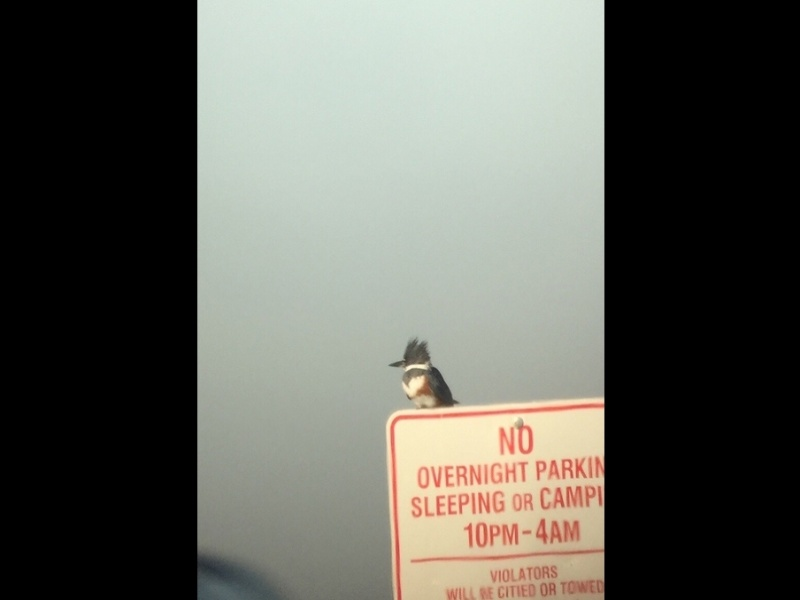kingfisher: (388, 337, 463, 409)
